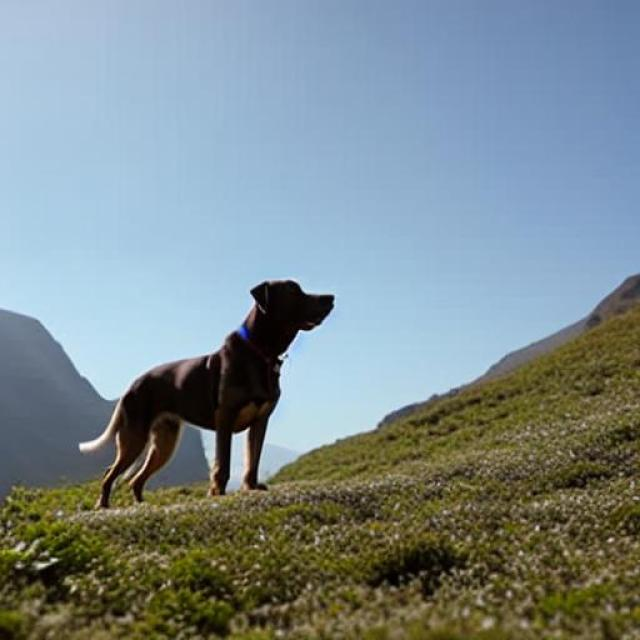Dog: (77, 279, 334, 509)
